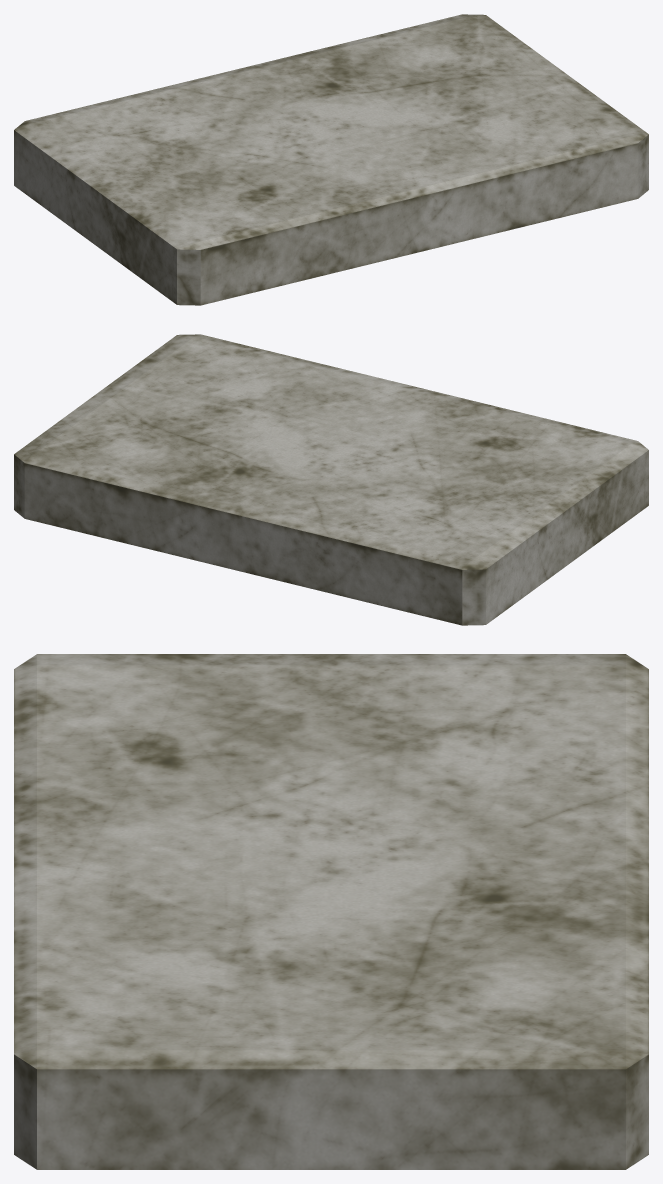
The model's file is moldy_old_mattres.glb.
3 renders of one model, top to bottom at view 1: azimuth 30°, elevation 25°; view 2: azimuth 150°, elevation 25°; view 3: azimuth 270°, elevation 25°, orthographic. The views are drawn at different scales.
Visible parts, largest first — view 1: Cube.033; view 2: Cube.033; view 3: Cube.033.
Part boxes in pixels (x1,y1,x2,y2): Cube.033: (14, 14, 648, 305); Cube.033: (14, 334, 648, 625); Cube.033: (14, 654, 648, 1169).
Bounding box in the file's own units: 2 × 0.2428 × 1.29.
Materials: 1 (1 with a texture image).
